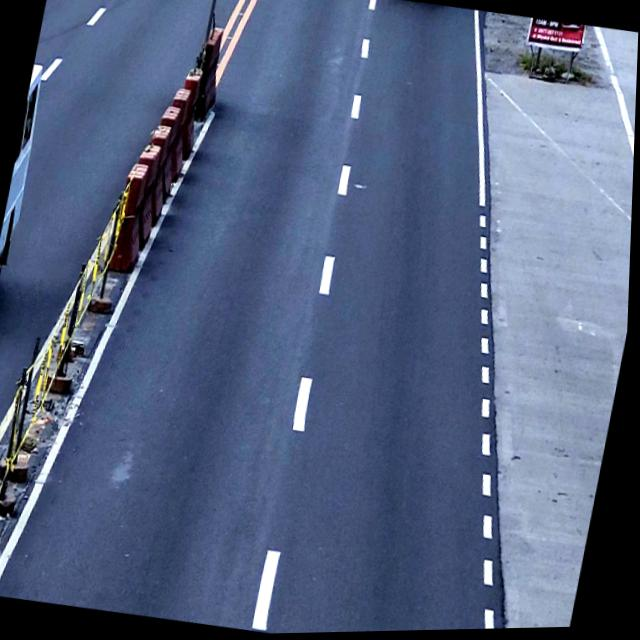Car: (0, 63, 50, 300)
